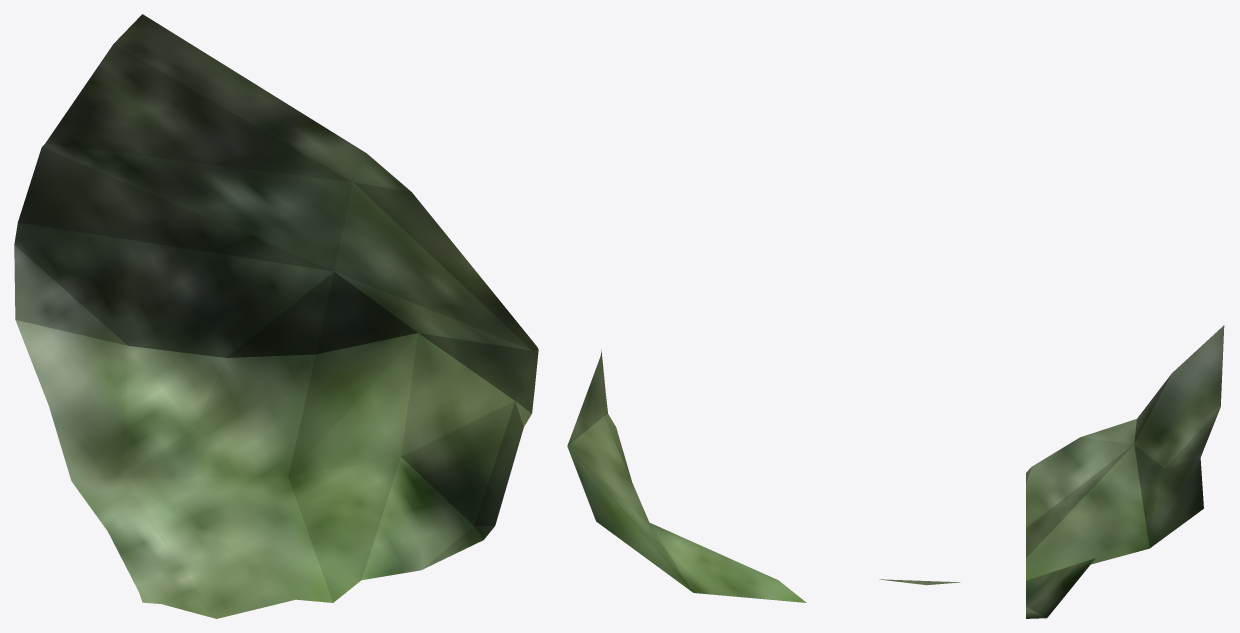
The picture shows the model from 3 angles, left to right: view 1: azimuth 30°, elevation 25°; view 2: azimuth 150°, elevation 25°; view 3: azimuth 270°, elevation 25°; orthographic projection. The views are drawn at different scales.
Size of the model in its own units: 3.15 by 4.84 by 1.77.
1 material, 1 textured.
